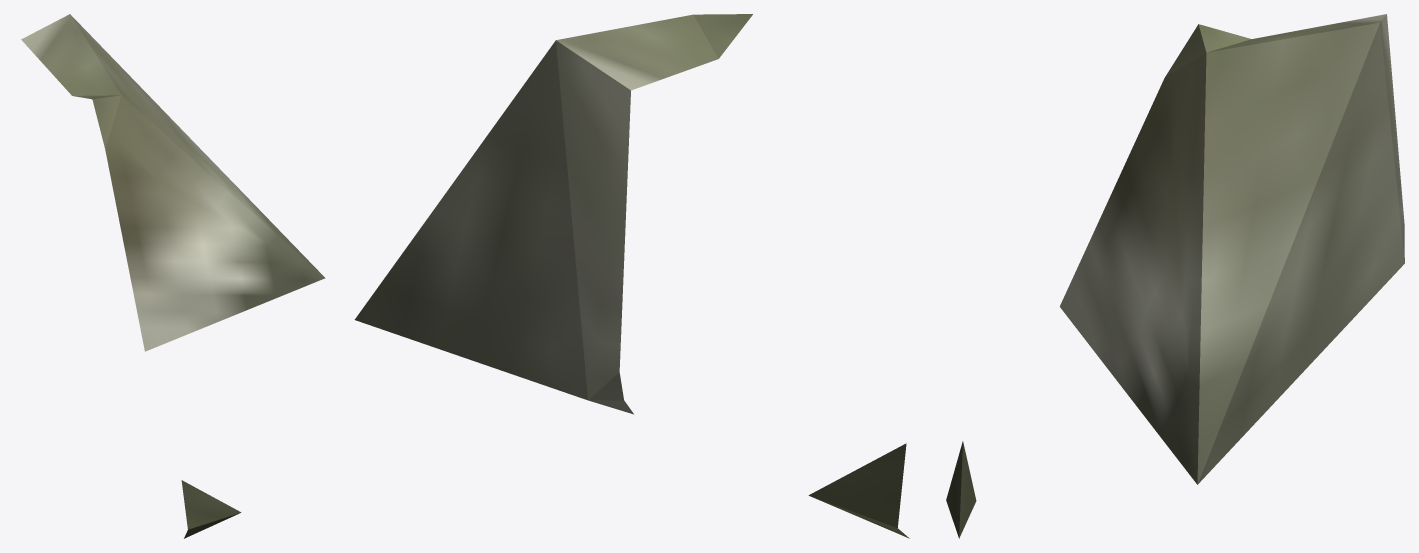
The picture shows the model from 3 angles, left to right: view 1: azimuth 30°, elevation 25°; view 2: azimuth 150°, elevation 25°; view 3: azimuth 270°, elevation 25°; orthographic projection. The views are drawn at different scales.
Size of the model in its own units: 0.1074 by 0.1747 by 0.1387.
1 material, 1 textured.
